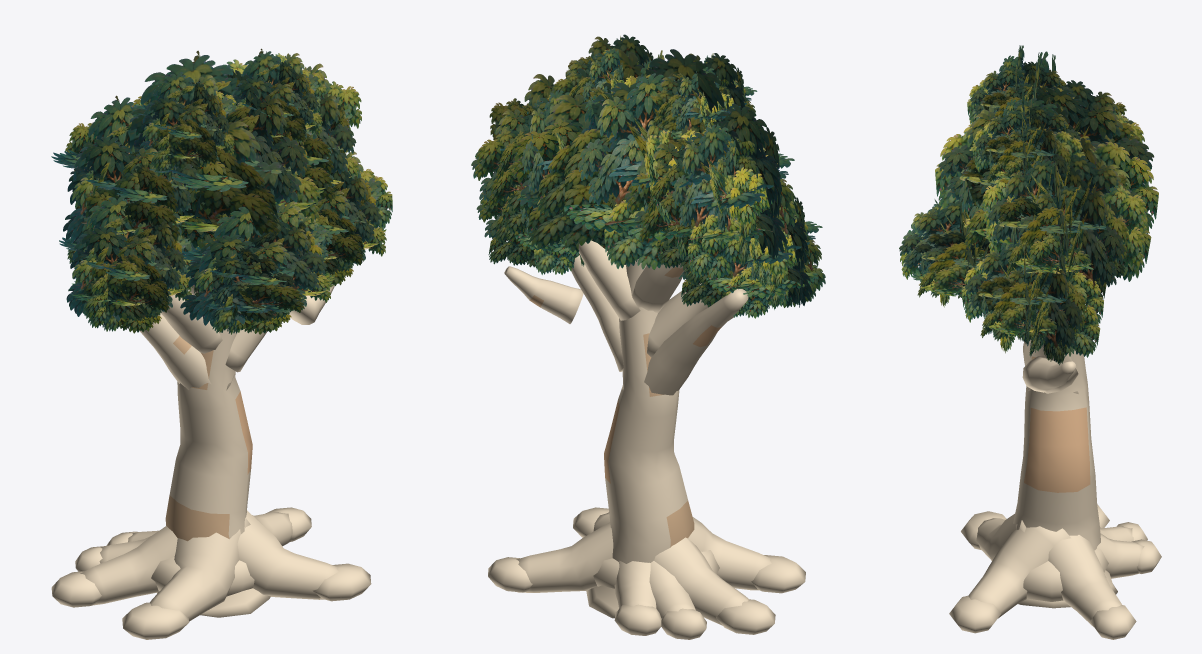
Rendered from TREE_EUCALYPTUS_001_v012_LOD_CLOSE.glb.
The picture shows the model from 3 angles, left to right: view 1: azimuth 30°, elevation 25°; view 2: azimuth 150°, elevation 25°; view 3: azimuth 270°, elevation 25°; orthographic projection. The views are drawn at different scales.
Visible parts, largest first — view 1: TREE_EUCALYPTUS_001_CLOSE_AUTHORED_FOLIAGE_ISLANDS, TREE_EUCALYPTUS_001_CLOSE_MAIN_TRUNK, TREE_EUCALYPTUS_001_CLOSE_ROOT_FRONT_LEFT, TREE_EUCALYPTUS_001_CLOSE_ROOT_FRONT_RIGHT, TREE_EUCALYPTUS_001_CLOSE_ROOT_LONG_LEFT, TREE_EUCALYPTUS_001_CLOSE_LOWER_LEFT_SWEEP, TREE_EUCALYPTUS_001_CLOSE_ROOT_TOE_FRONT_LEFT, TREE_EUCALYPTUS_001_CLOSE_MID_LEFT_ARCH, TREE_EUCALYPTUS_001_CLOSE_ROOT_TOE_FRONT_RIGHT, TREE_EUCALYPTUS_001_CLOSE_ROOT_TOE_LONG_LEFT, TREE_EUCALYPTUS_001_CLOSE_SCULPTED_ROOT_COLLAR, TREE_EUCALYPTUS_001_CLOSE_BROAD_PLANTED_ROOT_MOUND (+4 smaller); view 2: TREE_EUCALYPTUS_001_CLOSE_AUTHORED_FOLIAGE_ISLANDS, TREE_EUCALYPTUS_001_CLOSE_MAIN_TRUNK, TREE_EUCALYPTUS_001_CLOSE_LOWER_LEFT_SWEEP, TREE_EUCALYPTUS_001_CLOSE_ROOT_RIGHT_SIDE, TREE_EUCALYPTUS_001_CLOSE_ROOT_LONG_LEFT, TREE_EUCALYPTUS_001_CLOSE_ROOT_FRONT_LEFT, TREE_EUCALYPTUS_001_CLOSE_UPPER_RIGHT_ARCH, TREE_EUCALYPTUS_001_CLOSE_LOWER_RIGHT_REACH, TREE_EUCALYPTUS_001_CLOSE_MID_RIGHT_SWEEP, TREE_EUCALYPTUS_001_CLOSE_UPPER_LEFT_FORK, TREE_EUCALYPTUS_001_CLOSE_ROOT_REAR_SHORT, TREE_EUCALYPTUS_001_CLOSE_MID_LEFT_ARCH (+9 smaller); view 3: TREE_EUCALYPTUS_001_CLOSE_AUTHORED_FOLIAGE_ISLANDS, TREE_EUCALYPTUS_001_CLOSE_MAIN_TRUNK, TREE_EUCALYPTUS_001_CLOSE_ROOT_FRONT_RIGHT, TREE_EUCALYPTUS_001_CLOSE_ROOT_RIGHT_SIDE, TREE_EUCALYPTUS_001_CLOSE_BROAD_PLANTED_ROOT_MOUND, TREE_EUCALYPTUS_001_CLOSE_LOWER_RIGHT_REACH, TREE_EUCALYPTUS_001_CLOSE_ROOT_REAR_SHORT, TREE_EUCALYPTUS_001_CLOSE_ROOT_TOE_FRONT_RIGHT, TREE_EUCALYPTUS_001_CLOSE_ROOT_FRONT_LEFT, TREE_EUCALYPTUS_001_CLOSE_ROOT_TOE_RIGHT_SIDE, TREE_EUCALYPTUS_001_CLOSE_ROOT_TOE_FRONT_LEFT, TREE_EUCALYPTUS_001_CLOSE_ROOT_TOE_REAR_SHORT (+2 smaller).
Boxes of the visible parts, x1,y1,x2,y2 form: TREE_EUCALYPTUS_001_CLOSE_AUTHORED_FOLIAGE_ISLANDS: [51, 48, 392, 334]; TREE_EUCALYPTUS_001_CLOSE_MAIN_TRUNK: [165, 327, 252, 541]; TREE_EUCALYPTUS_001_CLOSE_ROOT_FRONT_LEFT: [150, 517, 250, 621]; TREE_EUCALYPTUS_001_CLOSE_ROOT_FRONT_RIGHT: [237, 510, 339, 599]; TREE_EUCALYPTUS_001_CLOSE_ROOT_LONG_LEFT: [80, 526, 177, 605]; TREE_EUCALYPTUS_001_CLOSE_LOWER_LEFT_SWEEP: [139, 313, 234, 390]; TREE_EUCALYPTUS_001_CLOSE_ROOT_TOE_FRONT_LEFT: [122, 602, 189, 639]; TREE_EUCALYPTUS_001_CLOSE_MID_LEFT_ARCH: [160, 294, 222, 353]; TREE_EUCALYPTUS_001_CLOSE_ROOT_TOE_FRONT_RIGHT: [313, 563, 371, 601]; TREE_EUCALYPTUS_001_CLOSE_ROOT_TOE_LONG_LEFT: [51, 571, 101, 607]; TREE_EUCALYPTUS_001_CLOSE_SCULPTED_ROOT_COLLAR: [157, 588, 270, 617]; TREE_EUCALYPTUS_001_CLOSE_BROAD_PLANTED_ROOT_MOUND: [151, 557, 254, 596]; TREE_EUCALYPTUS_001_CLOSE_AUTHORED_FOLIAGE_ISLANDS: [471, 34, 825, 318]; TREE_EUCALYPTUS_001_CLOSE_MAIN_TRUNK: [604, 259, 694, 563]; TREE_EUCALYPTUS_001_CLOSE_LOWER_LEFT_SWEEP: [622, 289, 748, 395]; TREE_EUCALYPTUS_001_CLOSE_ROOT_RIGHT_SIDE: [516, 522, 613, 592]; TREE_EUCALYPTUS_001_CLOSE_ROOT_LONG_LEFT: [654, 537, 748, 625]; TREE_EUCALYPTUS_001_CLOSE_ROOT_FRONT_LEFT: [688, 517, 771, 590]; TREE_EUCALYPTUS_001_CLOSE_UPPER_RIGHT_ARCH: [578, 240, 640, 320]; TREE_EUCALYPTUS_001_CLOSE_LOWER_RIGHT_REACH: [504, 266, 583, 323]; TREE_EUCALYPTUS_001_CLOSE_MID_RIGHT_SWEEP: [564, 252, 623, 371]; TREE_EUCALYPTUS_001_CLOSE_UPPER_LEFT_FORK: [632, 247, 686, 312]; TREE_EUCALYPTUS_001_CLOSE_ROOT_REAR_SHORT: [614, 561, 656, 608]; TREE_EUCALYPTUS_001_CLOSE_MID_LEFT_ARCH: [647, 283, 707, 357]; TREE_EUCALYPTUS_001_CLOSE_AUTHORED_FOLIAGE_ISLANDS: [899, 45, 1158, 365]; TREE_EUCALYPTUS_001_CLOSE_MAIN_TRUNK: [1013, 349, 1100, 550]; TREE_EUCALYPTUS_001_CLOSE_ROOT_FRONT_RIGHT: [968, 526, 1070, 618]; TREE_EUCALYPTUS_001_CLOSE_ROOT_RIGHT_SIDE: [1048, 535, 1121, 626]; TREE_EUCALYPTUS_001_CLOSE_BROAD_PLANTED_ROOT_MOUND: [1023, 549, 1108, 601]; TREE_EUCALYPTUS_001_CLOSE_LOWER_RIGHT_REACH: [1022, 356, 1076, 392]; TREE_EUCALYPTUS_001_CLOSE_ROOT_REAR_SHORT: [1096, 533, 1144, 578]; TREE_EUCALYPTUS_001_CLOSE_ROOT_TOE_FRONT_RIGHT: [949, 595, 1001, 633]; TREE_EUCALYPTUS_001_CLOSE_ROOT_FRONT_LEFT: [976, 514, 1026, 560]; TREE_EUCALYPTUS_001_CLOSE_ROOT_TOE_RIGHT_SIDE: [1090, 605, 1136, 639]; TREE_EUCALYPTUS_001_CLOSE_ROOT_TOE_FRONT_LEFT: [961, 511, 1006, 549]; TREE_EUCALYPTUS_001_CLOSE_ROOT_TOE_REAR_SHORT: [1131, 539, 1161, 573].
Size of the model in its own units: 4.65 by 6.9 by 3.68.
5 materials, 1 textured.
